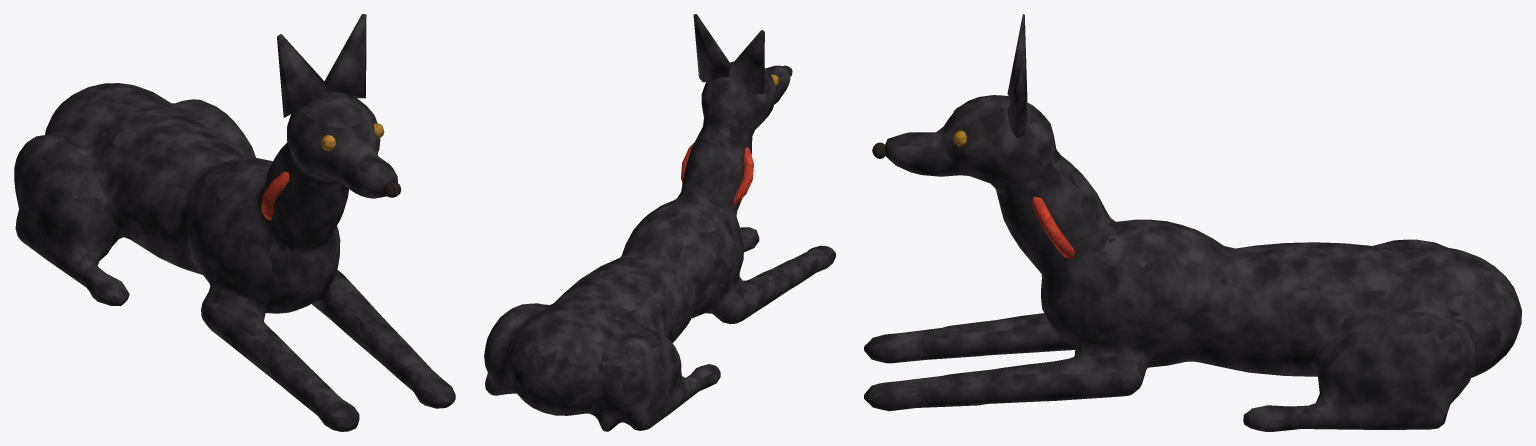
The model's file is xoloitzcuintle.obj.
3 views of the same model, side by side, from view 1: azimuth 30°, elevation 25°; view 2: azimuth 150°, elevation 25°; view 3: azimuth 270°, elevation 25° (orthographic). The views are drawn at different scales.
Parts seen in each view (by area): view 1: Xolo, Orejas, Collar; view 2: Xolo, Orejas, Collar; view 3: Xolo, Orejas, Collar.
Part boxes in pixels (left/top/right/bottom): Xolo: left=14, top=83, right=455, bottom=431; Orejas: left=277, top=14, right=366, bottom=117; Collar: left=261, top=171, right=289, bottom=220; Xolo: left=484, top=61, right=835, bottom=431; Orejas: left=693, top=14, right=764, bottom=94; Collar: left=681, top=142, right=753, bottom=205; Xolo: left=864, top=95, right=1521, bottom=431; Orejas: left=1007, top=14, right=1027, bottom=138; Collar: left=1031, top=196, right=1074, bottom=258.
Size of the model in its own units: 0.3538 by 0.5517 by 0.935.
4 materials, 4 textured.
